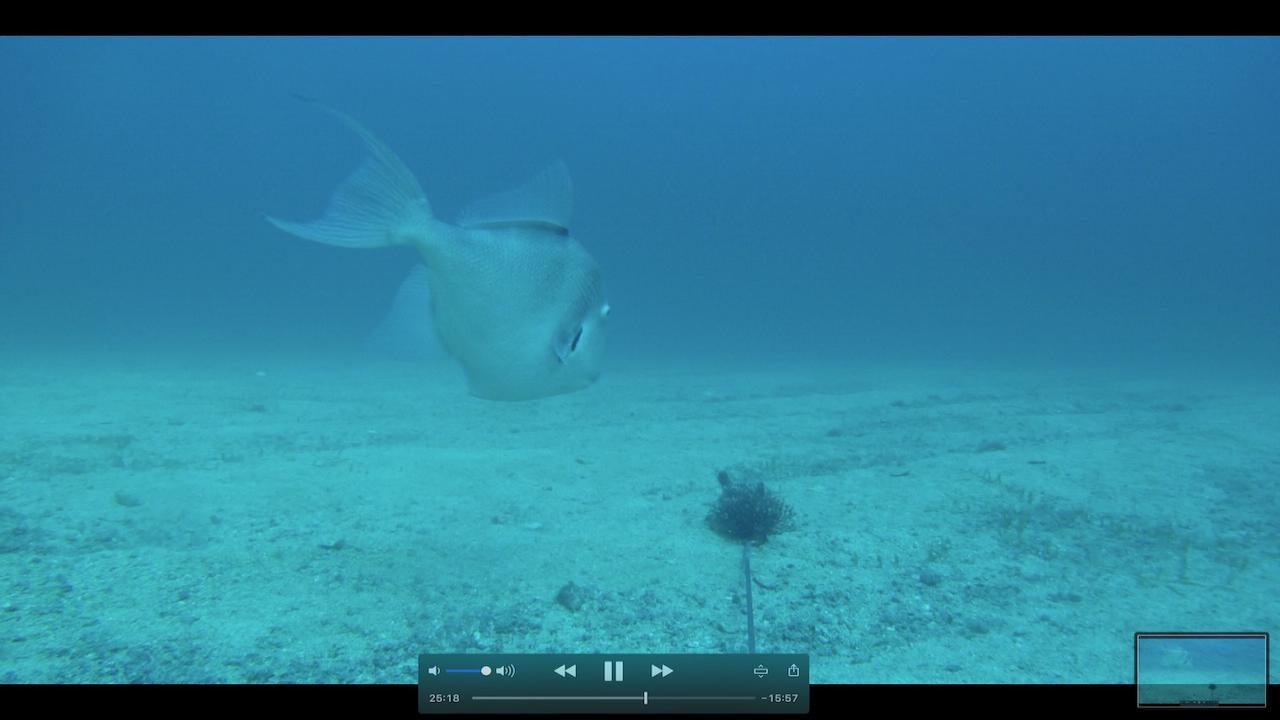balistes: (262, 96, 623, 404)
